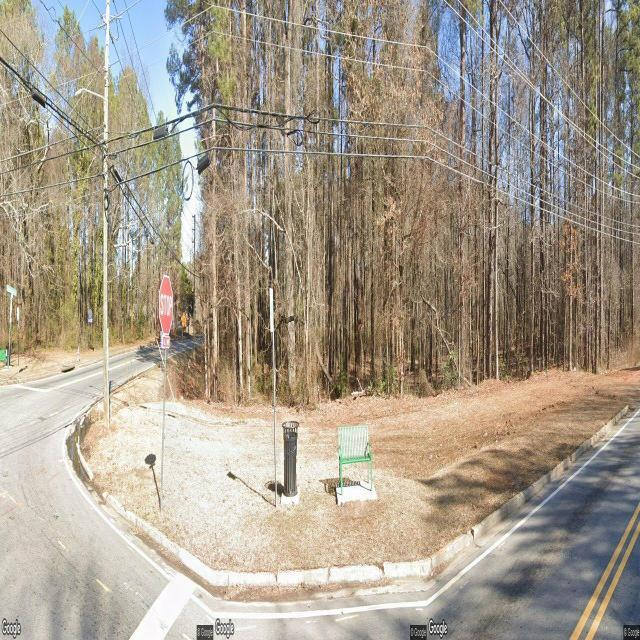seating: (338, 422, 373, 496)
trash_can: (282, 418, 300, 498)
